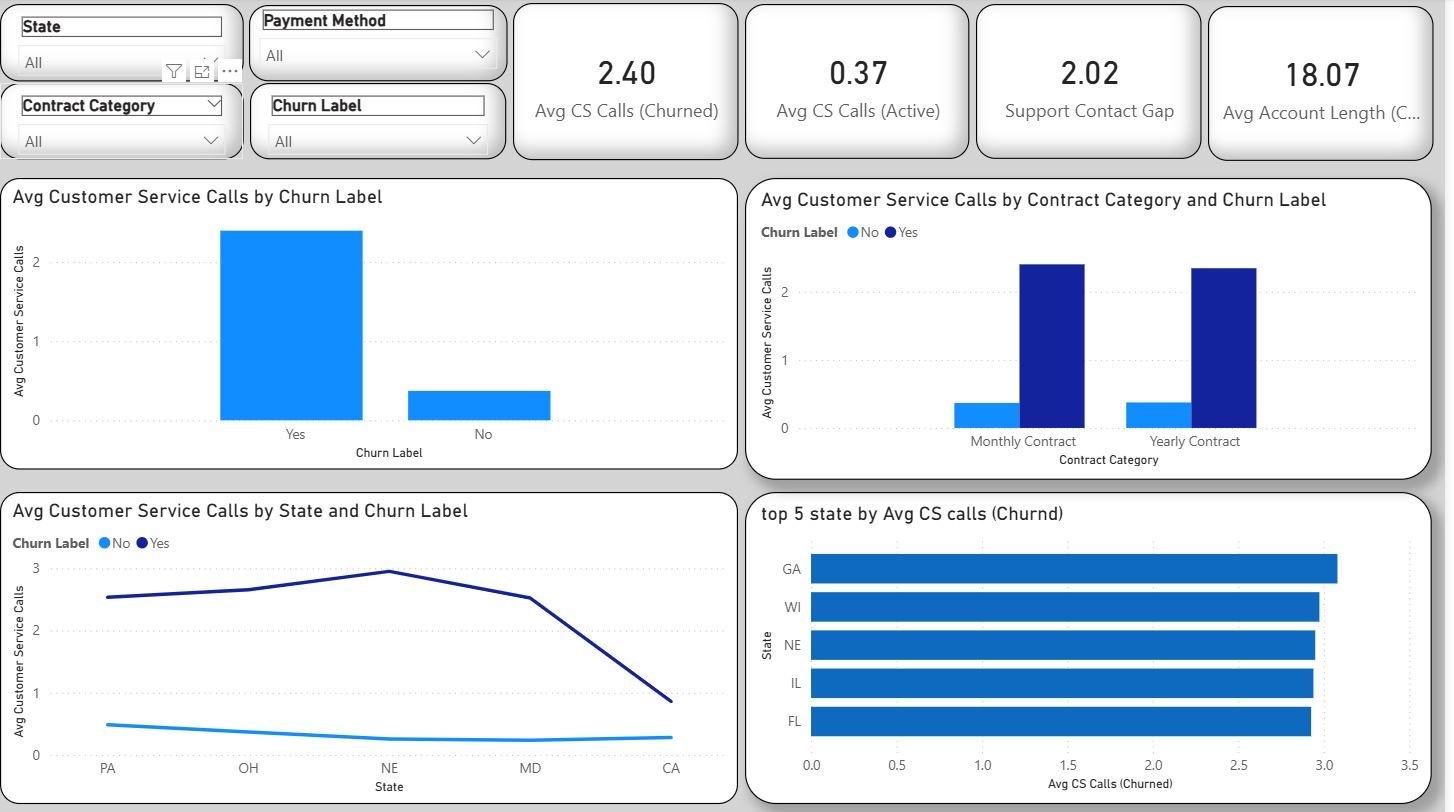

The page's visual inventory and layout, read from the dashboard file:
{"tool":"powerbi","page":{"name":"Customer Support & Engagement Drivers","canvas":[1280,720],"ordinal":4},"visuals":[{"type":"slicer","fields":{"Values":["Databel - Data.State"]},"box":[11.1,5.6,214.1,68.1],"z":0},{"type":"clusteredColumnChart","fields":{"Y":["measure table.Avg Customer Service Calls"],"Category":["Databel - Data.Churn Label"]},"box":[11.1,158.5,647.7,255.8],"z":1000},{"type":"barChart","title":"top 5 state by Avg CS calls (Churnd)","fields":{"Category":["Databel - Data.State"],"Y":["measure table.Avg CS Calls (Churned)"]},"box":[665.8,433.7,603.2,273.8],"z":2000},{"type":"slicer","fields":{"Values":["Databel - Data.Payment Method"]},"box":[229.8,6.1,226.8,67],"z":3000},{"type":"card","fields":{"Values":["measure table.Avg CS Calls (Churned)"]},"box":[461.5,4.2,198,137.6],"z":4000},{"type":"card","fields":{"Values":["measure table.Avg CS Calls (Active)"]},"box":[665.8,5.6,197.4,136.2],"z":5000},{"type":"card","fields":{"Values":["measure table.Support Contact Gap"]},"box":[868.7,5.6,198,136.2],"z":6000},{"type":"card","fields":{"Values":["measure table.Avg Account Length (Churned)"]},"box":[1071.7,6.9,198,136.2],"z":7000},{"type":"slicer","fields":{"Values":["Databel - Data.Contract Category"]},"box":[11.1,75.1,214.1,66.7],"z":8000},{"type":"slicer","fields":{"Values":["Databel - Data.Churn Label"]},"box":[231.3,74.6,225.3,67],"z":9000},{"type":"clusteredColumnChart","fields":{"Category":["Databel - Data.Contract Category"],"Y":["measure table.Avg Customer Service Calls"],"Series":["Databel - Data.Churn Label"]},"box":[665.8,158.5,603.2,265.5],"z":10000},{"type":"lineChart","fields":{"Y":["measure table.Avg Customer Service Calls"],"Series":["Databel - Data.Churn Label"],"Category":["Databel - Data.State"]},"box":[11.1,433.7,647.7,273.8],"z":11000}]}

Visuals, with their boxes in screenshot pixels (x1, y1, x2, y2), scaled from the page's 1280x720 canvas onto the 1454x812 screenshot:
slicer - Databel - Data.State: (x1=13, y1=6, x2=256, y2=83)
clusteredColumnChart - measure table.Avg Customer Service Calls x Databel - Data.Churn Label: (x1=13, y1=179, x2=748, y2=467)
"top 5 state by Avg CS calls (Churnd)" barChart: (x1=756, y1=489, x2=1442, y2=798)
slicer - Databel - Data.Payment Method: (x1=261, y1=7, x2=519, y2=82)
card - measure table.Avg CS Calls (Churned): (x1=524, y1=5, x2=749, y2=160)
card - measure table.Avg CS Calls (Active): (x1=756, y1=6, x2=981, y2=160)
card - measure table.Support Contact Gap: (x1=987, y1=6, x2=1212, y2=160)
card - measure table.Avg Account Length (Churned): (x1=1217, y1=8, x2=1442, y2=161)
slicer - Databel - Data.Contract Category: (x1=13, y1=85, x2=256, y2=160)
slicer - Databel - Data.Churn Label: (x1=263, y1=84, x2=519, y2=160)
clusteredColumnChart - Databel - Data.Contract Category x measure table.Avg Customer Service Calls: (x1=756, y1=179, x2=1442, y2=478)
lineChart - measure table.Avg Customer Service Calls x Databel - Data.Churn Label: (x1=13, y1=489, x2=748, y2=798)
